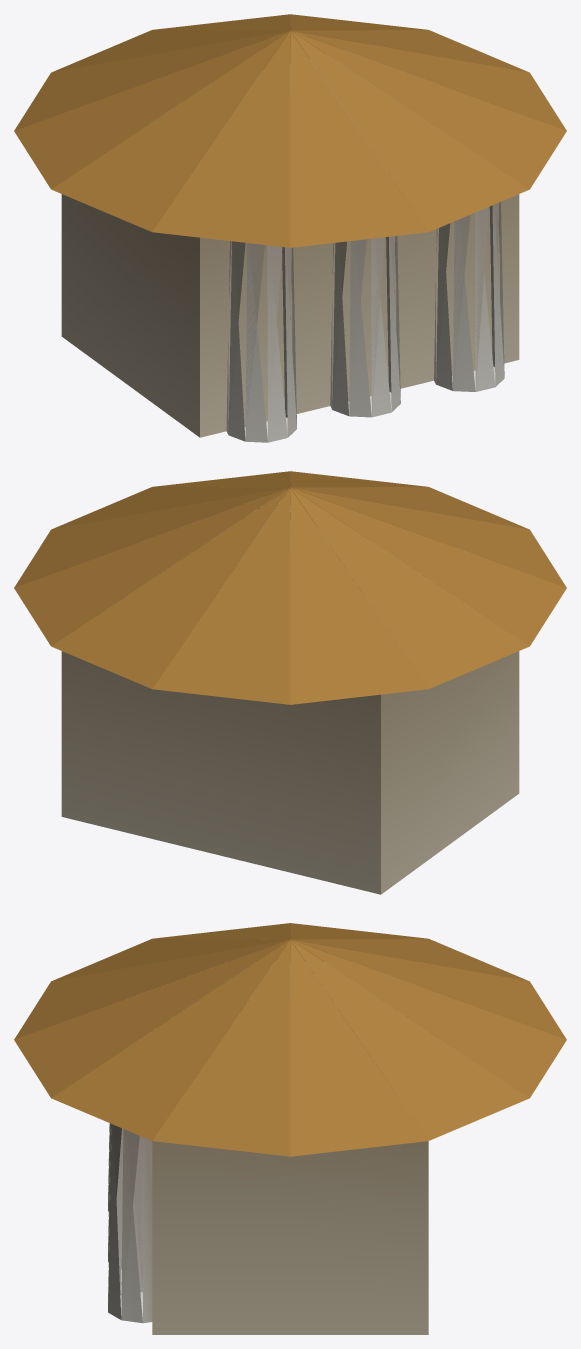
The picture shows the model from 3 angles, top to bottom: view 1: azimuth 30°, elevation 25°; view 2: azimuth 150°, elevation 25°; view 3: azimuth 270°, elevation 25°; orthographic projection.
Parts seen in each view (by area): view 1: pet_pe814048e; view 2: pet_pe814048e; view 3: pet_pe814048e.
Part boxes in pixels (bbox=[...]): pet_pe814048e: bbox=[14, 14, 566, 442]; pet_pe814048e: bbox=[14, 471, 566, 894]; pet_pe814048e: bbox=[14, 923, 566, 1334].
Bounding box in the file's own units: 0.6 × 0.38 × 0.6.
